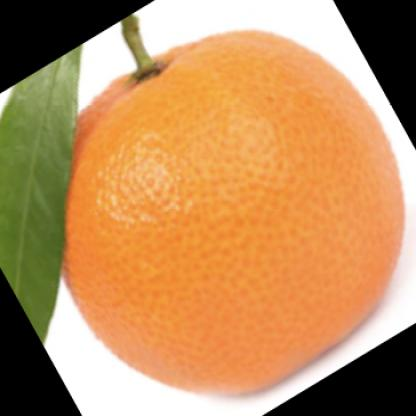orange: (13, 31, 408, 399)
